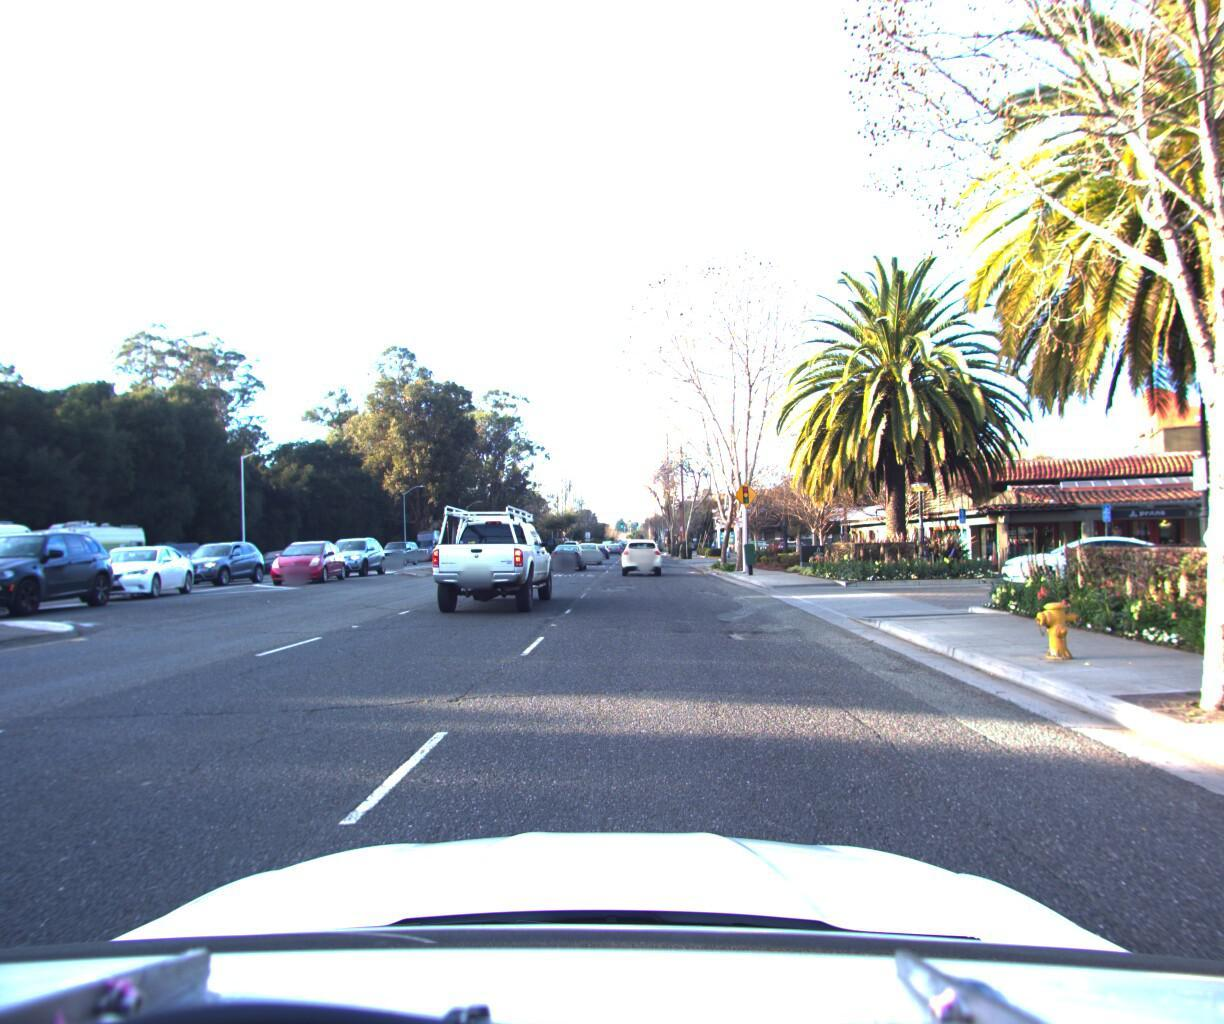car: (430, 500, 558, 615), (989, 527, 1188, 584), (67, 539, 203, 603), (167, 539, 273, 592), (126, 536, 215, 583), (268, 535, 349, 585), (317, 530, 390, 575), (620, 531, 663, 573), (248, 543, 307, 573), (546, 536, 586, 567), (376, 540, 421, 567), (571, 534, 600, 559)
other_vehicle: (17, 513, 155, 591)
